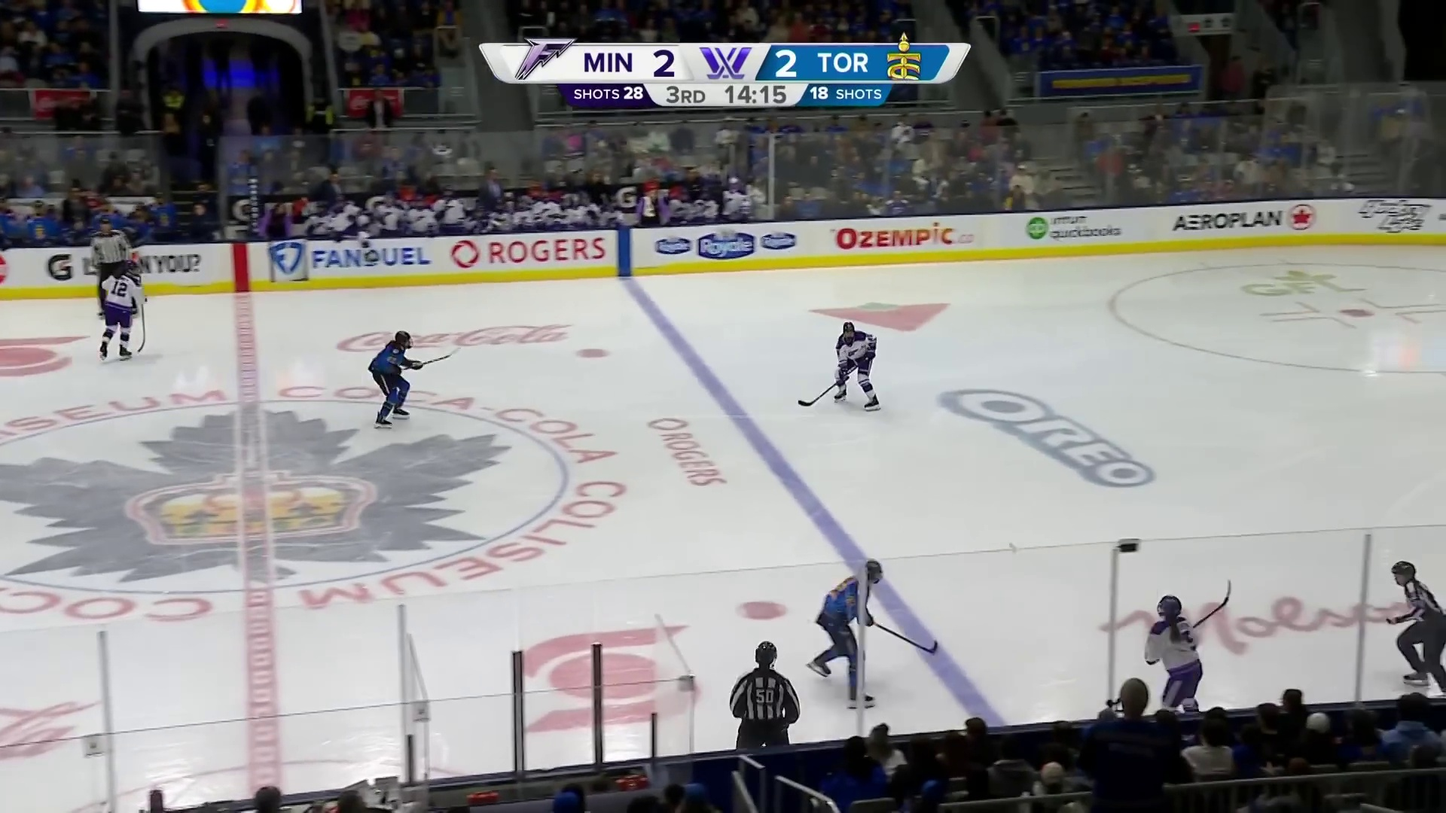player: (809, 559, 885, 707), (367, 329, 424, 428), (833, 320, 882, 411)
